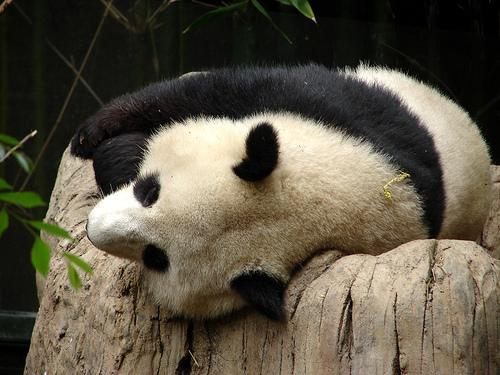panda: (69, 65, 490, 316)
